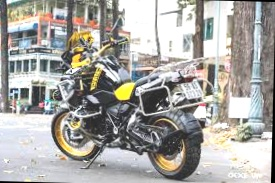Bien-so: (179, 79, 203, 99)
